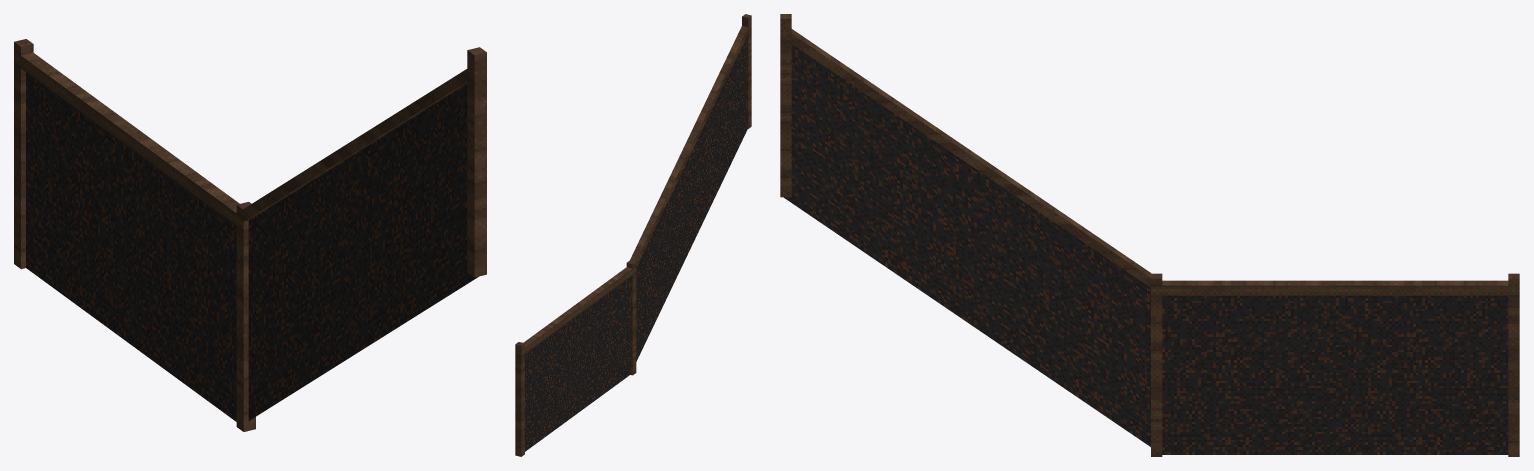
The model's file is stair_u_rail_r.gltf.
3 renders of one model, left to right at view 1: azimuth 30°, elevation 25°; view 2: azimuth 150°, elevation 25°; view 3: azimuth 270°, elevation 25°, orthographic. The views are drawn at different scales.
Parts seen in each view (by area): view 1: stair_u_rail_r; view 2: stair_u_rail_r; view 3: stair_u_rail_r.
Boxes of the visible parts, x1,y1,x2,y2 form: stair_u_rail_r: [14, 39, 486, 431]; stair_u_rail_r: [515, 14, 751, 456]; stair_u_rail_r: [780, 14, 1519, 456].
Size of what is drawn, in the model's own units: 0.06 by 2.53 by 3.87.
2 materials, 2 textured.
